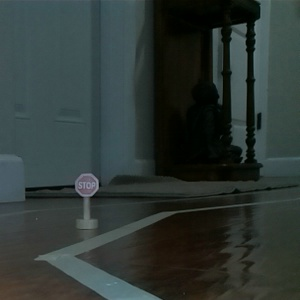stop sign: (72, 171, 101, 231)
